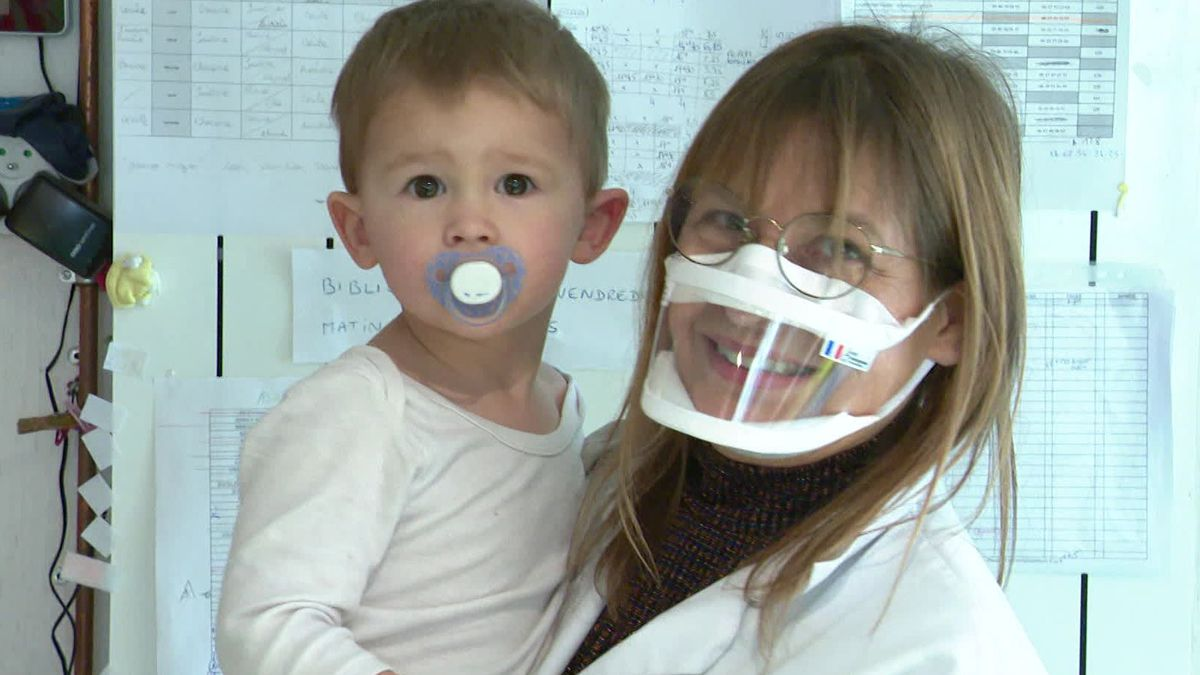with_mask: (639, 152, 932, 440)
without_mask: (355, 85, 584, 340)
